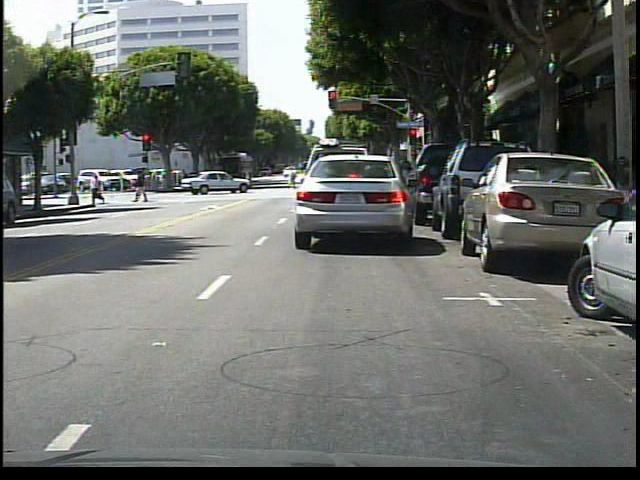person: (91, 172, 108, 206), (136, 171, 149, 204), (289, 166, 300, 190)
